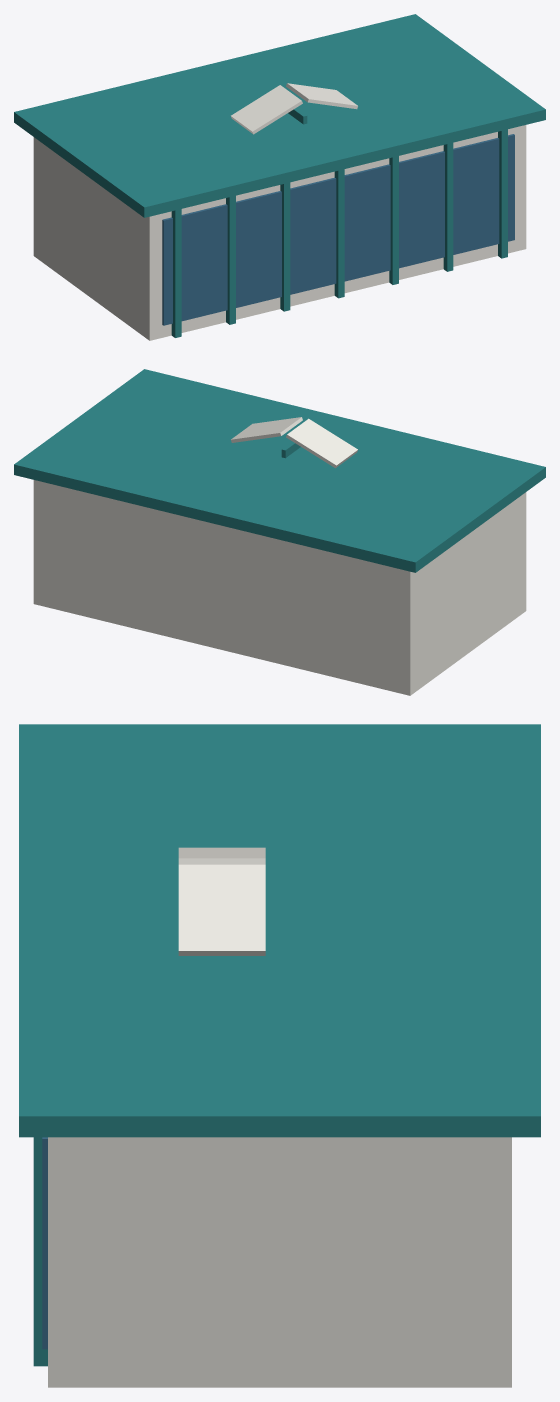
File: library.glb
3 renders of one model, top to bottom at view 1: azimuth 30°, elevation 25°; view 2: azimuth 150°, elevation 25°; view 3: azimuth 270°, elevation 25°, orthographic. The views are drawn at different scales.
Parts seen in each view (by area): view 1: Cube.001; view 2: Cube.001; view 3: Cube.001.
Part boxes in pixels (x1,y1,x2,y2): Cube.001: (14, 14, 545, 340); Cube.001: (14, 369, 545, 695); Cube.001: (19, 724, 540, 1387).
Size of the model in its own units: 32 by 13.04 by 18.
